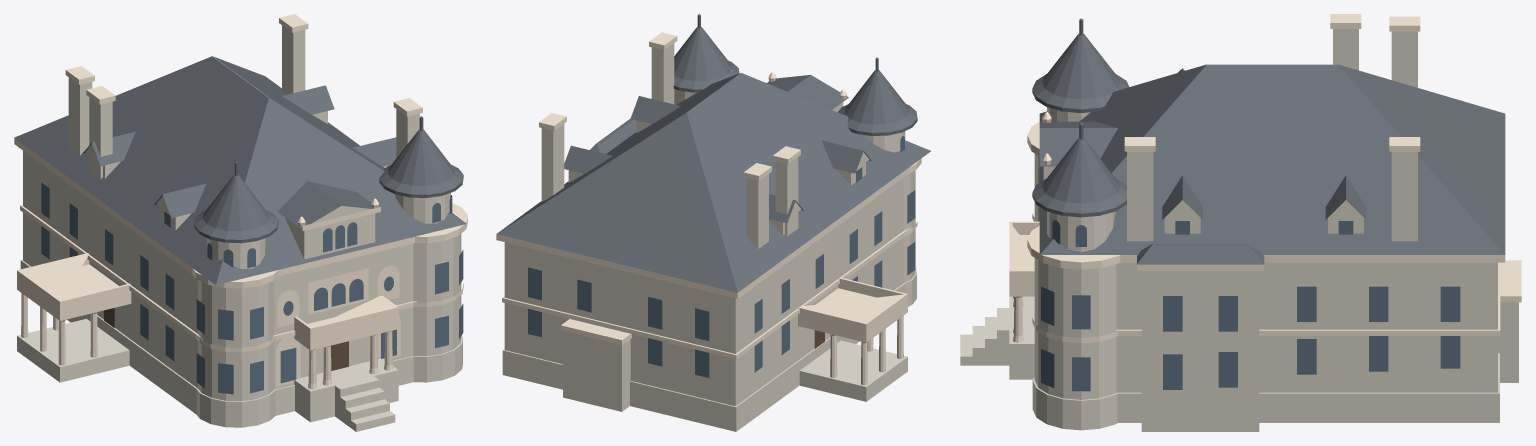
Rendered from slc-governors-mansion.glb.
The picture shows the model from 3 angles, left to right: view 1: azimuth 30°, elevation 25°; view 2: azimuth 150°, elevation 25°; view 3: azimuth 270°, elevation 25°; orthographic projection. The views are drawn at different scales.
Visible parts, largest first — view 1: Governor's Mansion; view 2: Governor's Mansion; view 3: Governor's Mansion.
Part boxes in pixels (x1,y1,x2,y2): Governor's Mansion: (14,14,467,431); Governor's Mansion: (496,14,930,431); Governor's Mansion: (960,14,1521,431).
Size of the model in its own units: 27.1 by 19.6 by 34.35.
